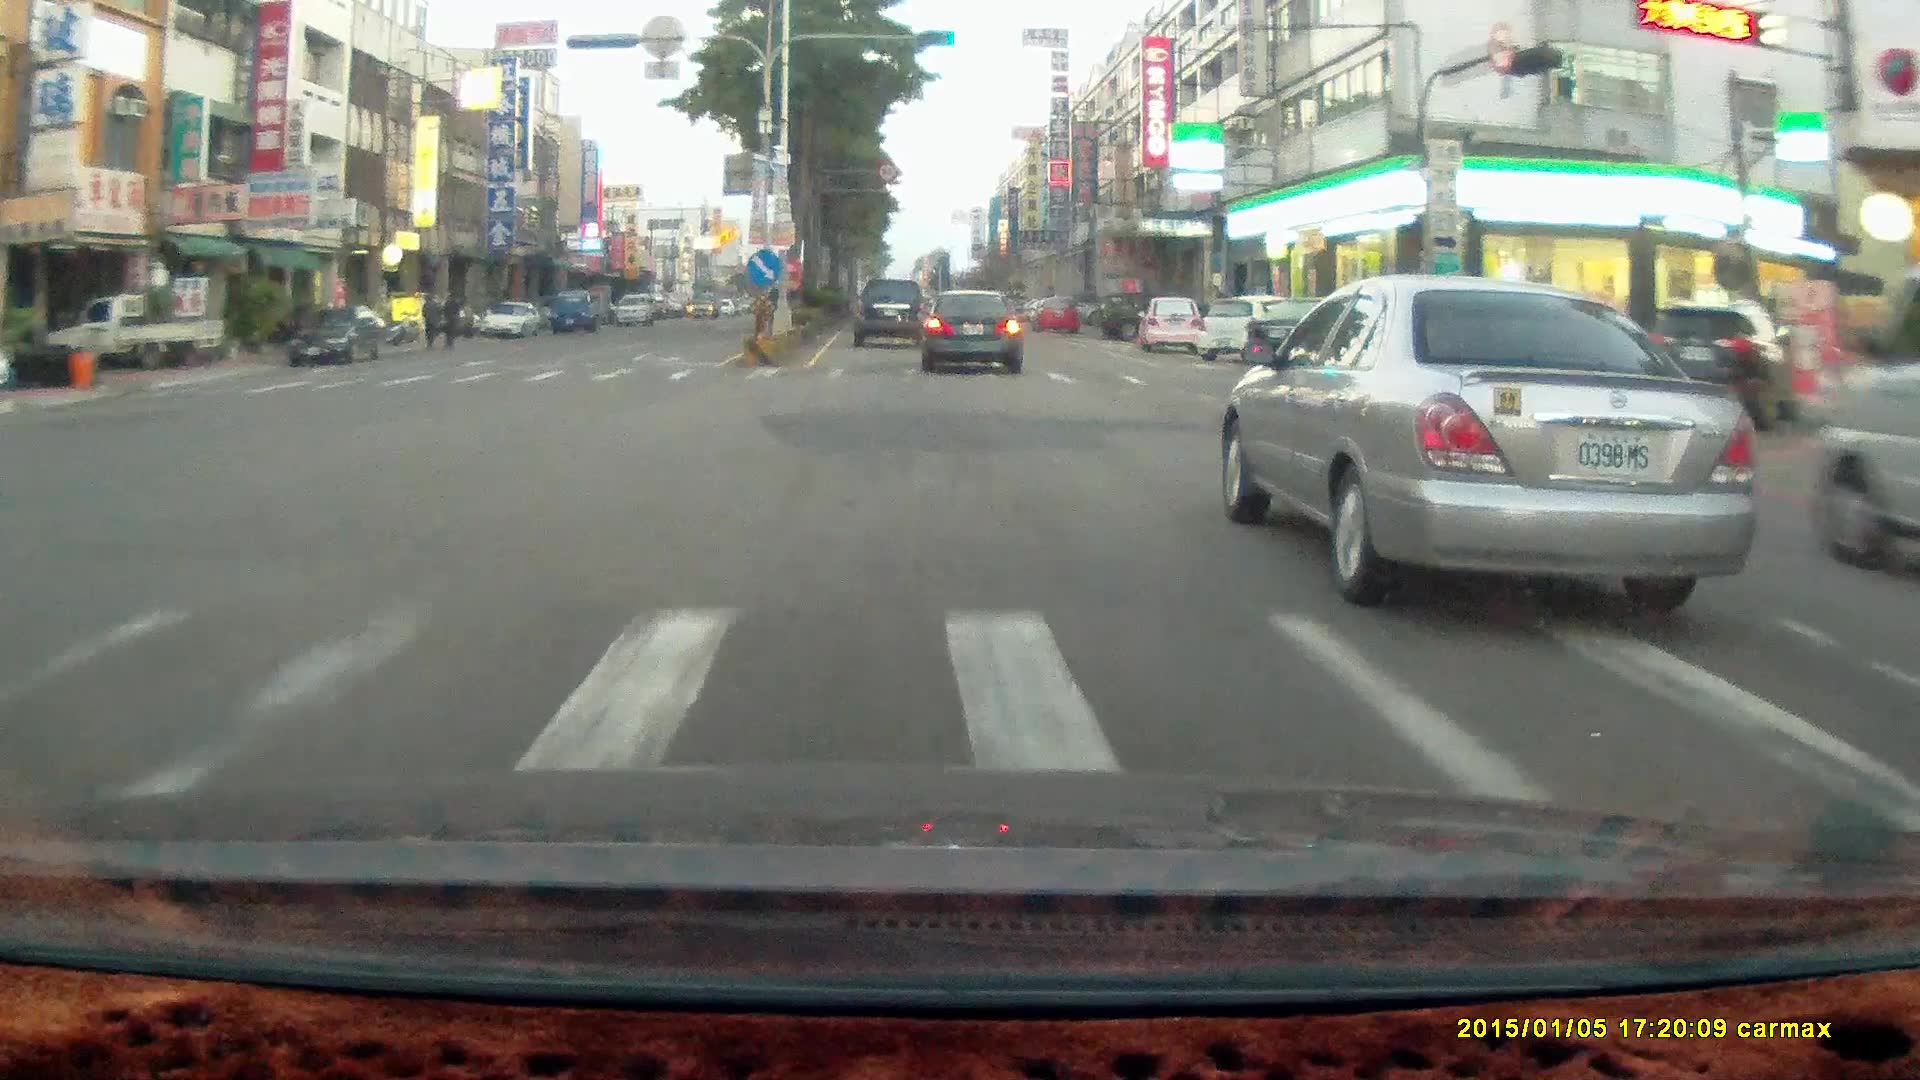pedestrian: (440, 283, 466, 349), (439, 290, 461, 350), (419, 288, 441, 350), (419, 290, 439, 353)
vehicle: (1226, 285, 1763, 604), (1808, 264, 1920, 579), (1640, 299, 1795, 430), (43, 294, 223, 374), (58, 293, 220, 380), (1248, 298, 1380, 378), (1245, 295, 1380, 372), (922, 293, 1027, 378), (922, 288, 1022, 373), (1197, 295, 1307, 363), (282, 306, 392, 370), (286, 307, 385, 365), (856, 278, 931, 353), (851, 279, 927, 350), (1136, 294, 1204, 354), (1140, 300, 1207, 359), (1099, 291, 1174, 341), (479, 301, 544, 342), (548, 294, 600, 337), (479, 304, 540, 340), (549, 289, 594, 334), (1033, 293, 1079, 331), (614, 291, 656, 325)
